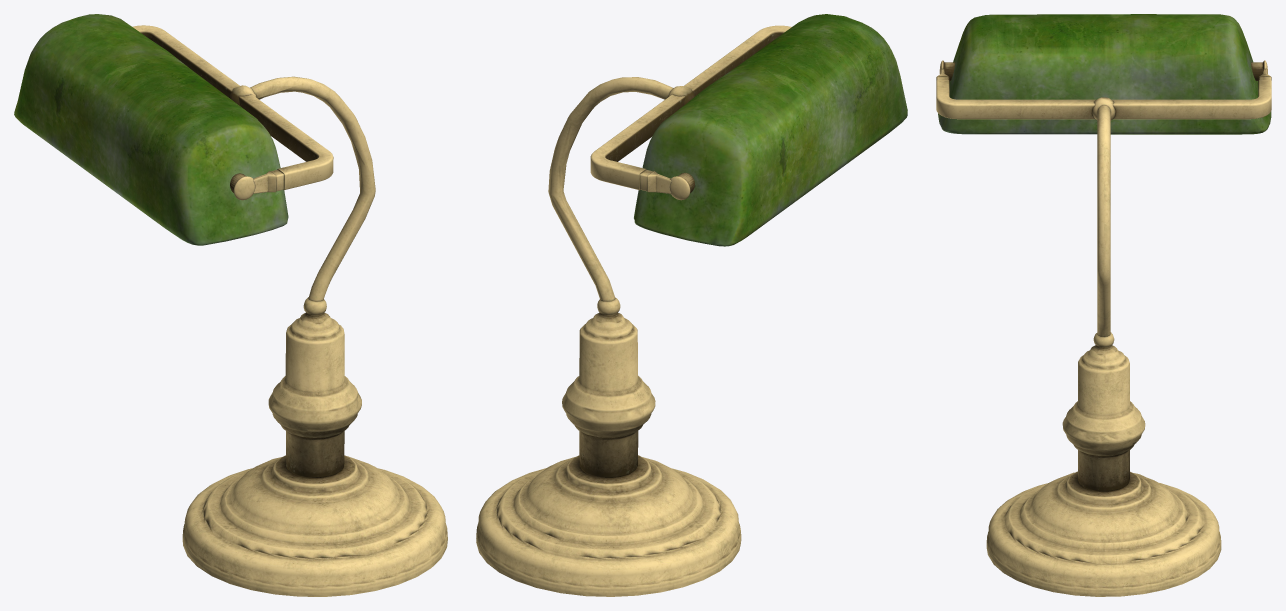
Rendered from Desk lamp.fbx.
The picture shows the model from 3 angles, left to right: view 1: azimuth 30°, elevation 25°; view 2: azimuth 150°, elevation 25°; view 3: azimuth 270°, elevation 25°; orthographic projection. The views are drawn at different scales.
Parts seen in each view (by area): view 1: retro table lamp-Freepoly.org; view 2: retro table lamp-Freepoly.org; view 3: retro table lamp-Freepoly.org.
Boxes of the visible parts, <box> form: retro table lamp-Freepoly.org: <box>14,14,447,596</box>; retro table lamp-Freepoly.org: <box>476,14,907,596</box>; retro table lamp-Freepoly.org: <box>936,14,1271,596</box>.
Bounding box in the file's own units: 25.15 × 37.38 × 24.94.
